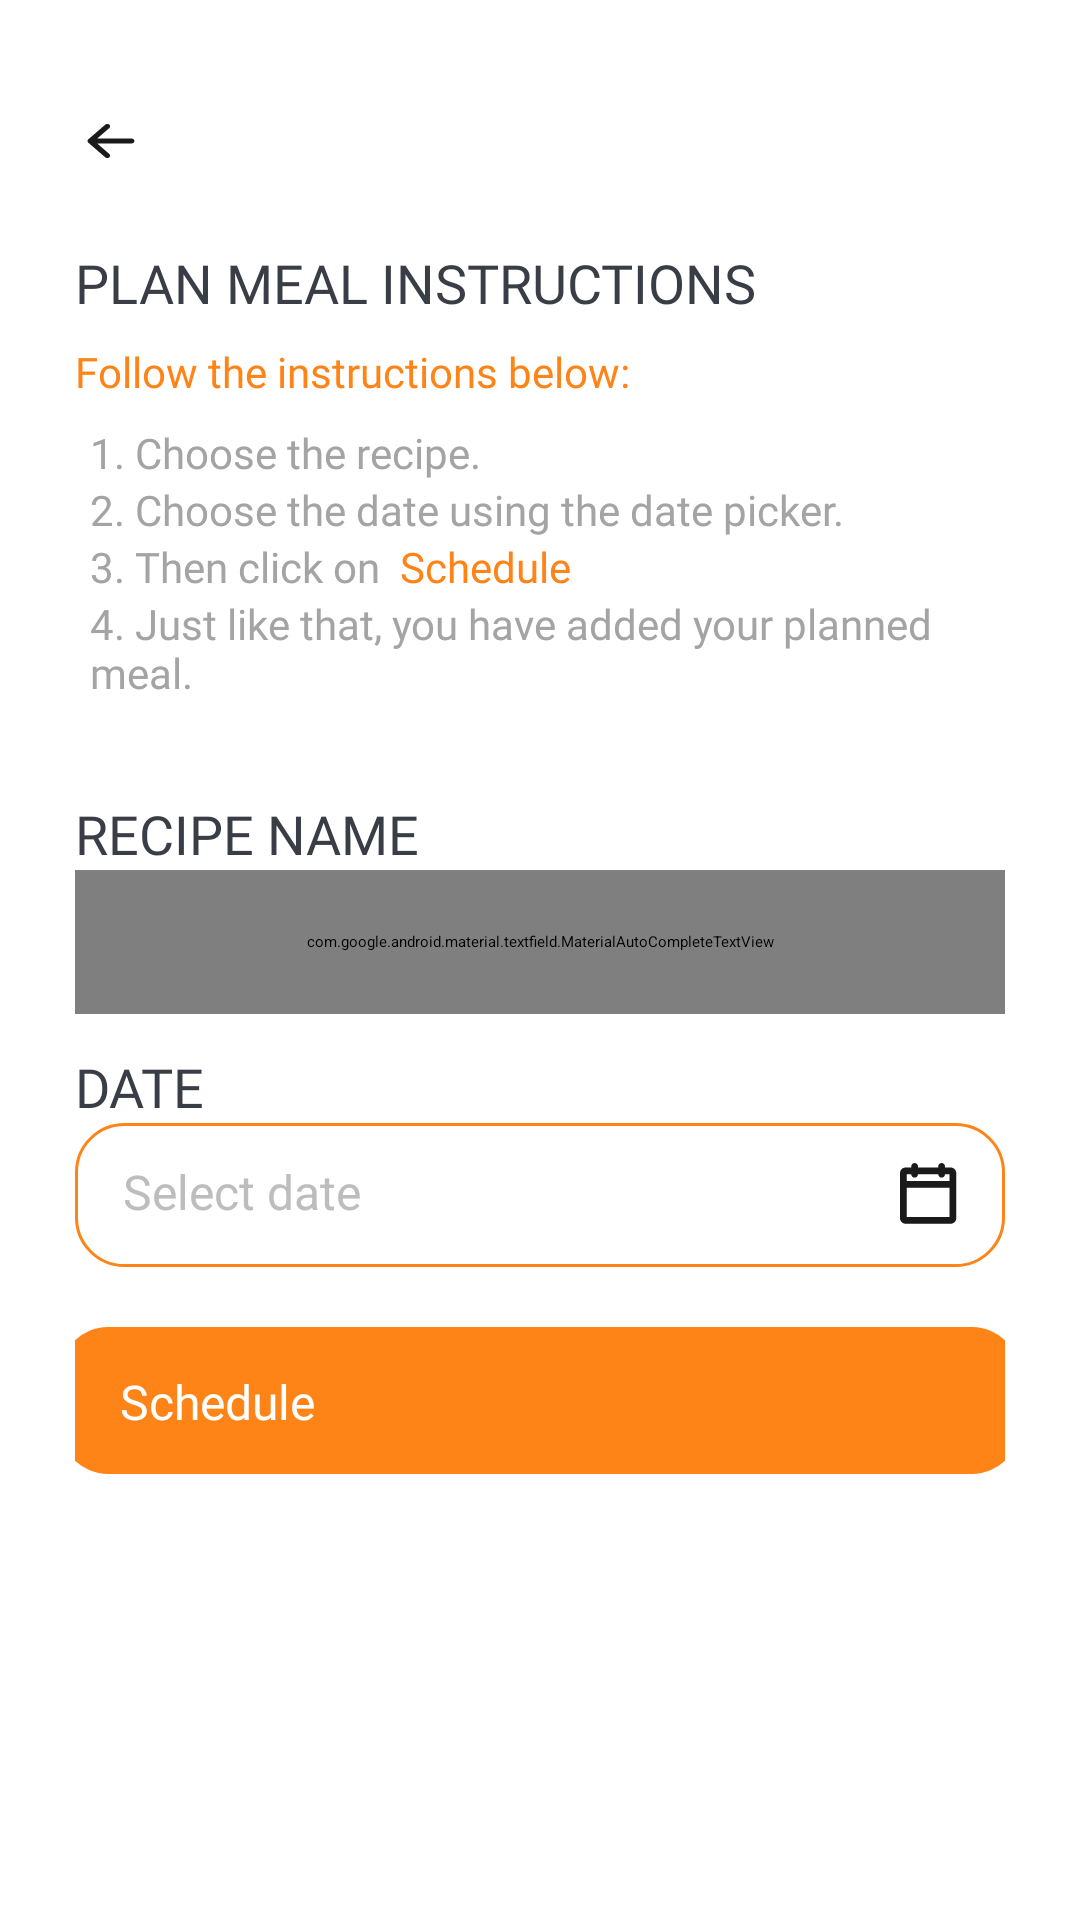

Icon bounding boxes for this 1080*1920 phone screenshot, format (x1=x1, y1=y1, x2=x2, y2=y2):
arrow: (x1=87, y1=124, x2=135, y2=158)
